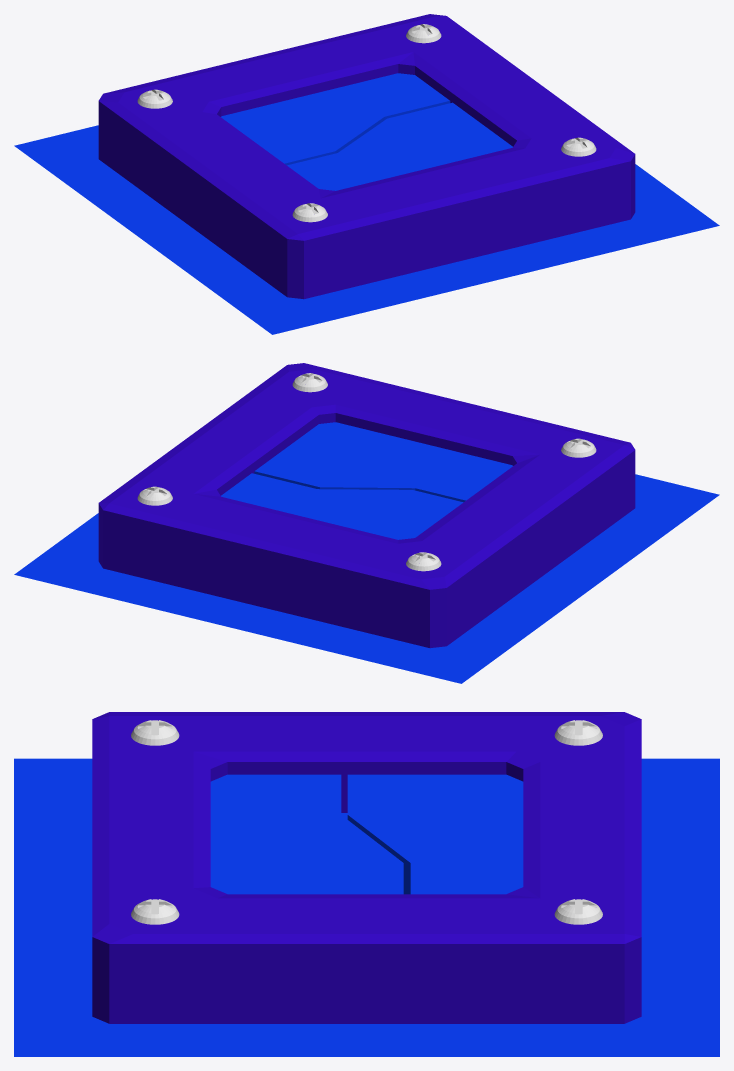
File: Underground entrance_blue.fbx
3 renders of one model, top to bottom at view 1: azimuth 30°, elevation 25°; view 2: azimuth 150°, elevation 25°; view 3: azimuth 270°, elevation 25°, orthographic. The views are drawn at different scales.
Visible parts, largest first — view 1: Cube.025, Plane, Cube.026, Cylinder.002, Cylinder.001, Cylinder, Cylinder.003; view 2: Cube.025, Plane, Cube.026, Cylinder, Cylinder.003, Cylinder.002, Cylinder.001; view 3: Cube.025, Plane, Cube.026, Cylinder, Cylinder.002, Cylinder.001, Cylinder.003.
Boxes of the visible parts, x1,y1,x2,y2 form: Cube.025: (98,14,635,299); Plane: (14,125,719,334); Cube.026: (221,73,512,190); Cylinder.002: (561,137,596,156); Cylinder.001: (137,89,172,108); Cylinder: (406,24,441,43); Cylinder.003: (292,203,327,222); Cube.025: (98,363,635,648); Plane: (14,474,719,683); Cube.026: (221,422,512,539); Cylinder: (137,486,172,505); Cylinder.003: (561,438,596,457); Cylinder.002: (292,373,327,392); Cylinder.001: (406,552,441,571); Cube.025: (92,712,641,1023); Plane: (14,758,719,1056); Cube.026: (210,774,523,894); Cylinder: (554,899,602,924); Cylinder.002: (131,899,179,924); Cylinder.001: (554,720,602,745); Cylinder.003: (131,720,179,745).
Bounding box in the file's own units: 1000 × 172 × 1000.
